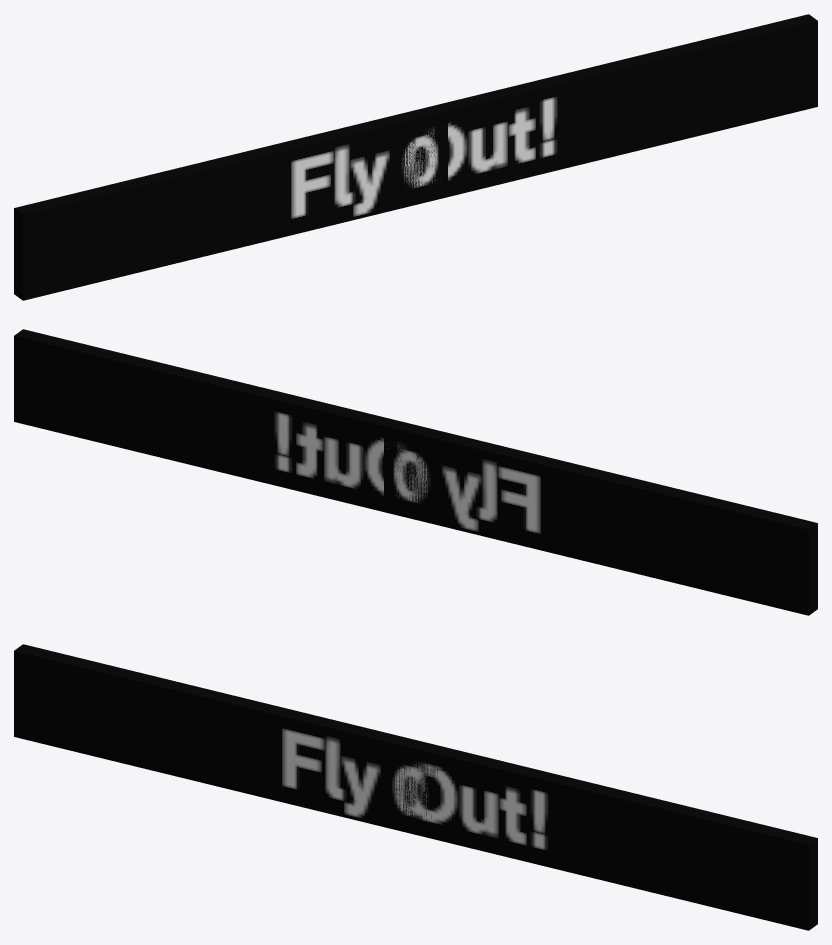
The model's file is P_ScoreboardTiles_H-4-Export_.dae.
3 views of the same model, one above another, from view 1: azimuth 30°, elevation 25°; view 2: azimuth 150°, elevation 25°; view 3: azimuth 330°, elevation 25° (orthographic).
Visible parts, largest first — view 1: Mesh_X_stateFlyOut, Mesh_X_inn0; view 2: Mesh_X_stateFlyOut, Mesh_X_inn0; view 3: Mesh_X_stateFlyOut, Mesh_X_inn0.
Boxes of the visible parts, x1,y1,x2,y2 form: Mesh_X_stateFlyOut: (14,14,817,300); Mesh_X_inn0: (393,120,447,199); Mesh_X_stateFlyOut: (14,329,817,615); Mesh_X_inn0: (384,435,438,514); Mesh_X_stateFlyOut: (14,644,817,930); Mesh_X_inn0: (384,750,437,828).
Bounding box in the file's own units: 22.89 × 2.37 × 0.455.
1 material, 1 textured.
